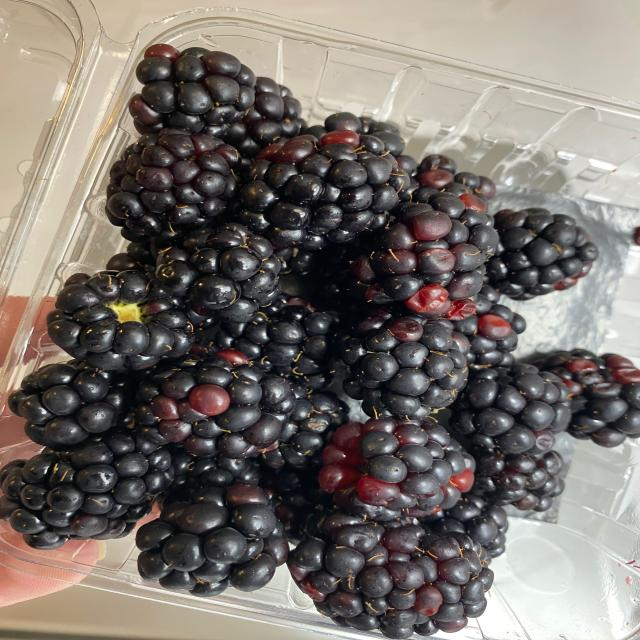blackberries: (22, 51, 606, 630)
